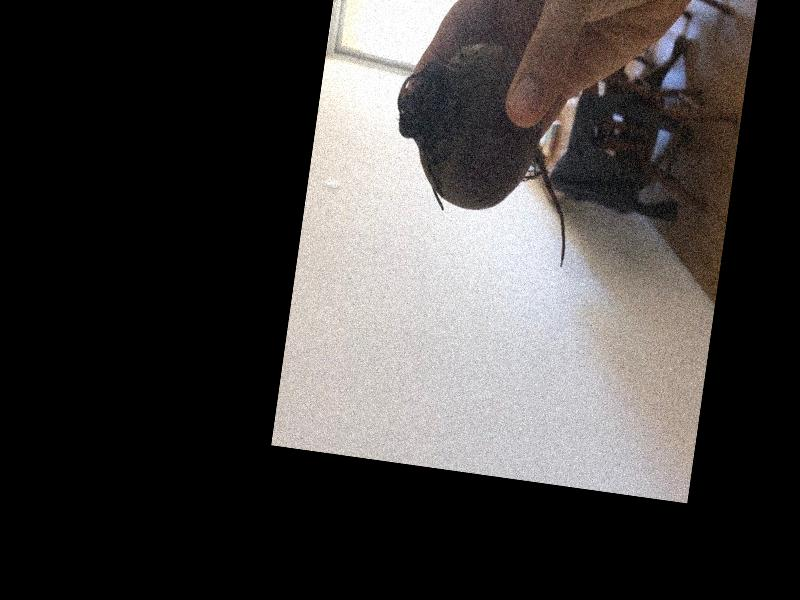Beet: (378, 32, 592, 267)
